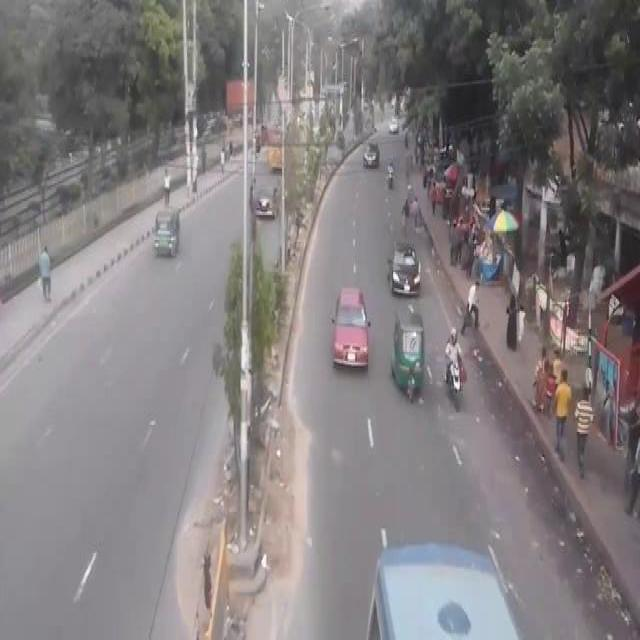car: (331, 284, 371, 372), (385, 238, 420, 299)
motorcycle: (390, 306, 425, 404), (442, 322, 468, 409), (153, 203, 179, 261)
